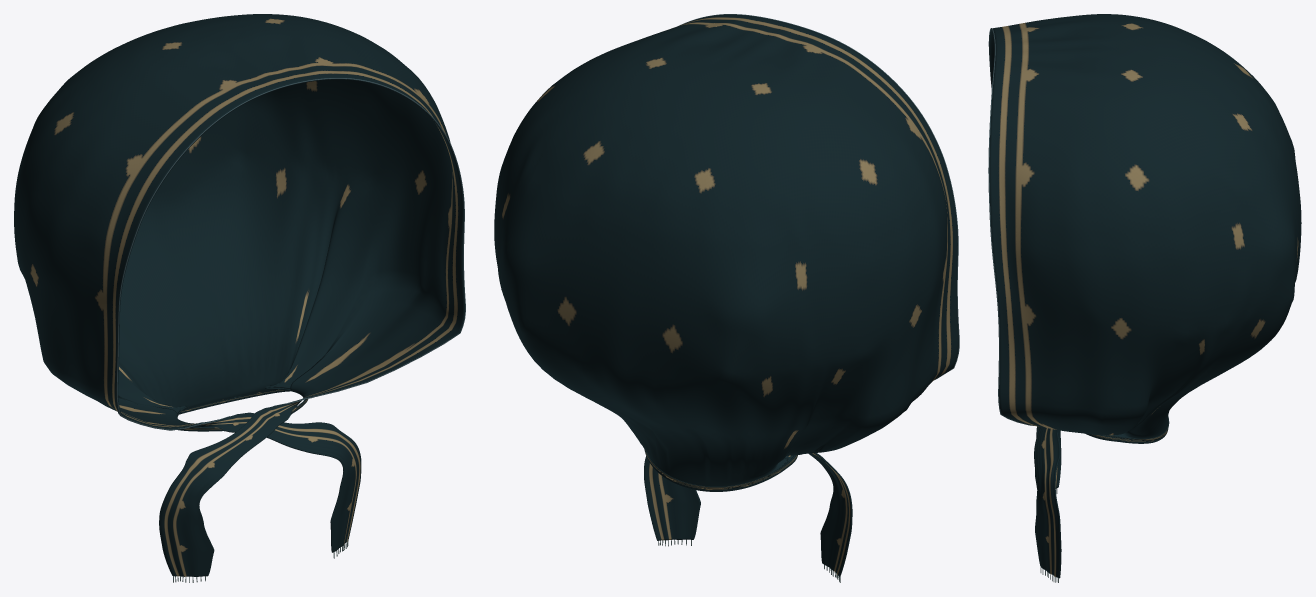
The model's file is Masculine-middle-part-shirtless-pashmina249-headgear.glb.
The picture shows the model from 3 angles, left to right: view 1: azimuth 30°, elevation 25°; view 2: azimuth 150°, elevation 25°; view 3: azimuth 270°, elevation 25°; orthographic projection. The views are drawn at different scales.
Visible parts, largest first — view 1: 226 headgear / Headwear / continuous woven pashmina239, 226 headgear / Headwear / face edge239; view 2: 226 headgear / Headwear / continuous woven pashmina239, 226 headgear / Headwear / face edge239; view 3: 226 headgear / Headwear / continuous woven pashmina239, 226 headgear / Headwear / face edge239.
Part boxes in pixels (box(x1,y1,x2,y2)): 226 headgear / Headwear / continuous woven pashmina239: box(14, 14, 464, 576); 226 headgear / Headwear / face edge239: box(116, 78, 465, 430); 226 headgear / Headwear / continuous woven pashmina239: box(494, 14, 958, 576); 226 headgear / Headwear / face edge239: box(679, 14, 959, 380); 226 headgear / Headwear / continuous woven pashmina239: box(989, 14, 1301, 578); 226 headgear / Headwear / face edge239: box(988, 28, 1033, 425).
Bounding box in the file's own units: 1.12 × 1.39 × 0.7917.
3 materials, 1 textured.
